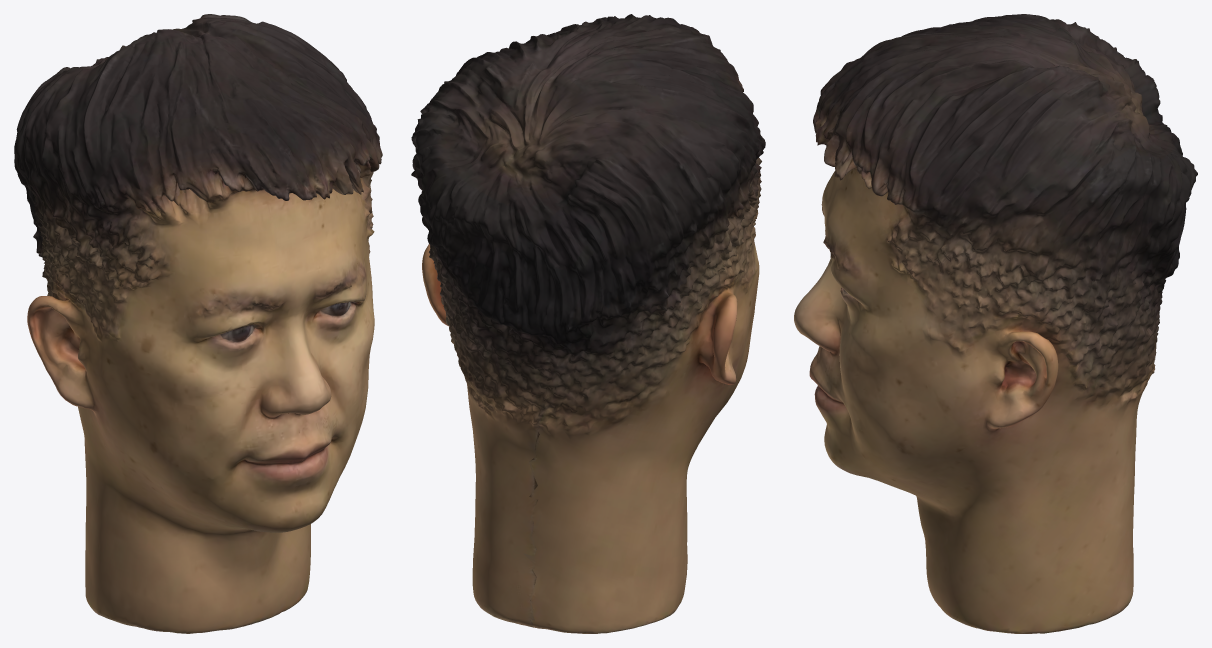
File: 真人头像_男_中年02_opt.glb
3 views of the same model, side by side, from view 1: azimuth 30°, elevation 25°; view 2: azimuth 150°, elevation 25°; view 3: azimuth 270°, elevation 25° (orthographic). The views are drawn at different scales.
Visible parts, largest first — view 1: material_0; view 2: material_0; view 3: material_0.
Part boxes in pixels (x1=…): material_0: x1=14, y1=14, x2=382, y2=633; material_0: x1=411, y1=14, x2=765, y2=633; material_0: x1=794, y1=14, x2=1197, y2=633.
Size of the model in its own units: 0.1775 by 0.3 by 0.2004.
1 material, 1 textured.
